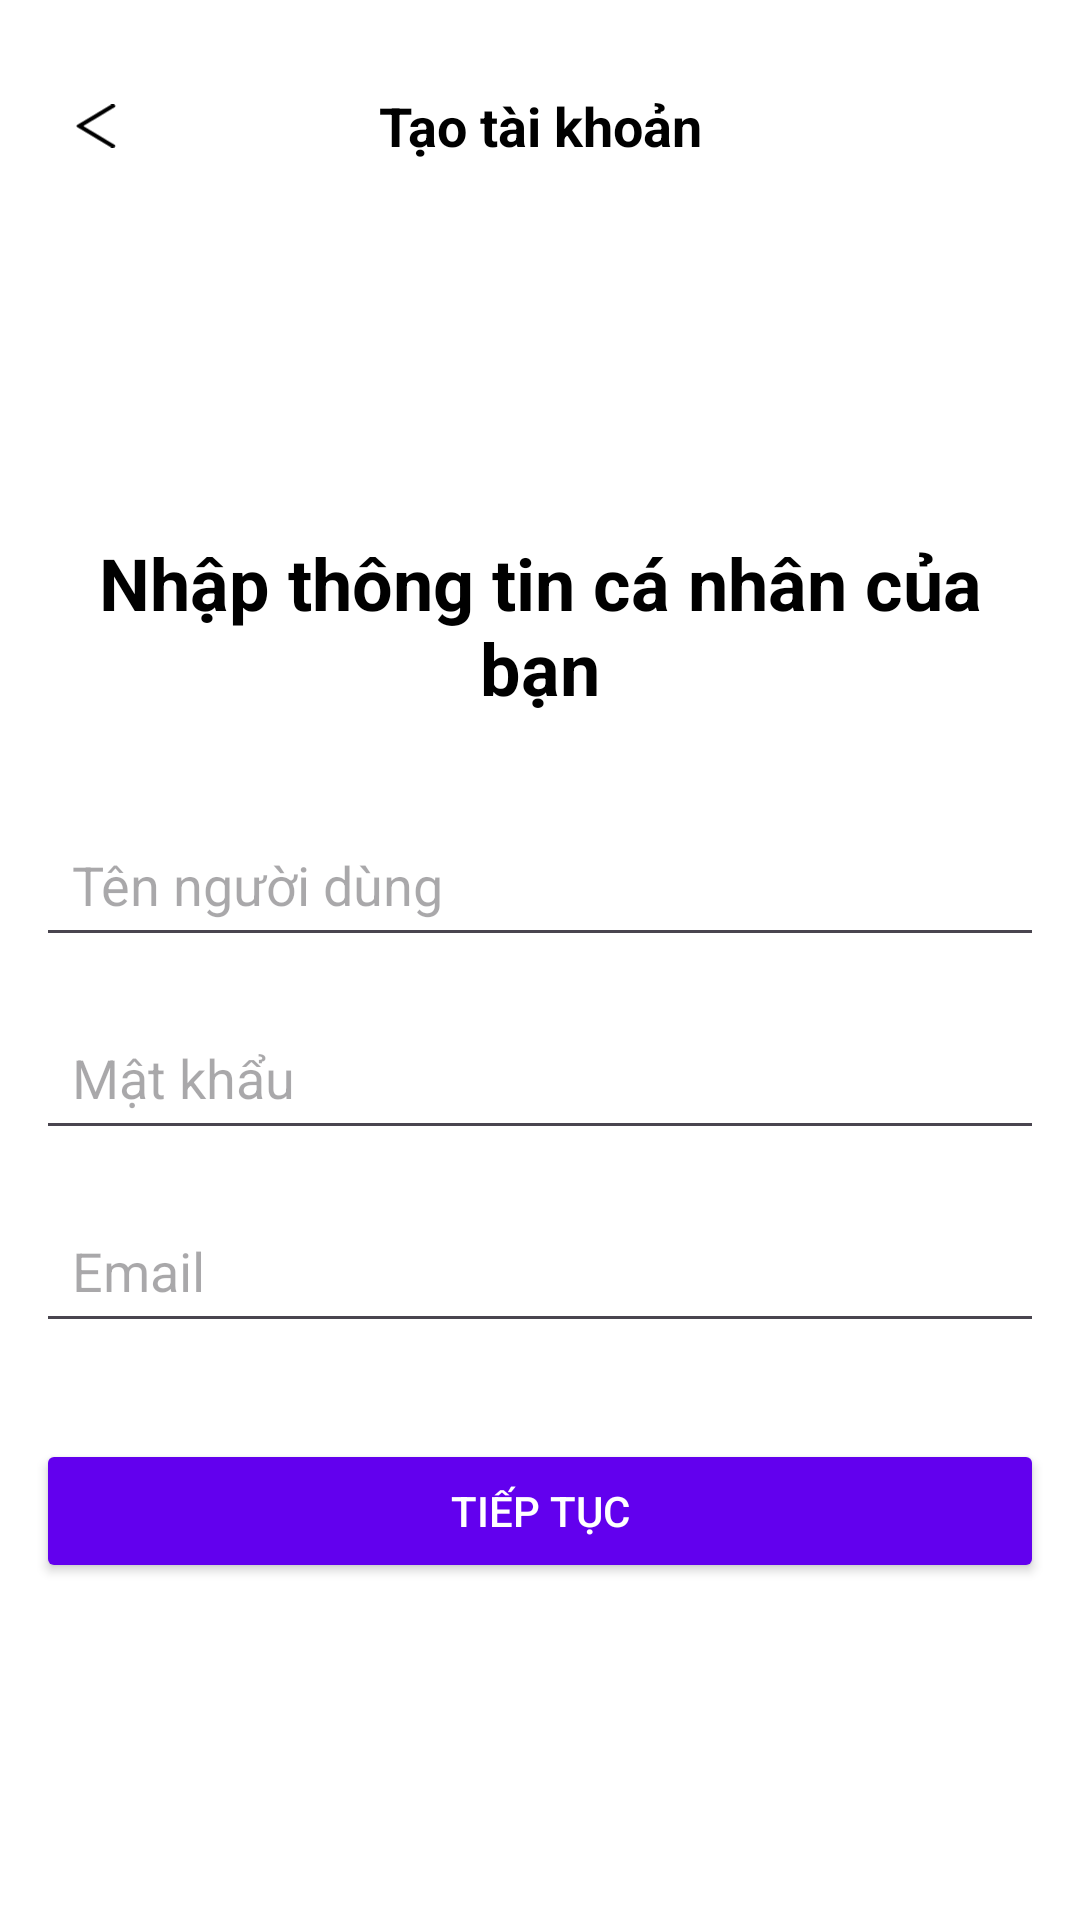

Where icons sit on this 1080x1920 app screen, as (x1,y1,x2,y2):
Back: (76,104,116,148)
